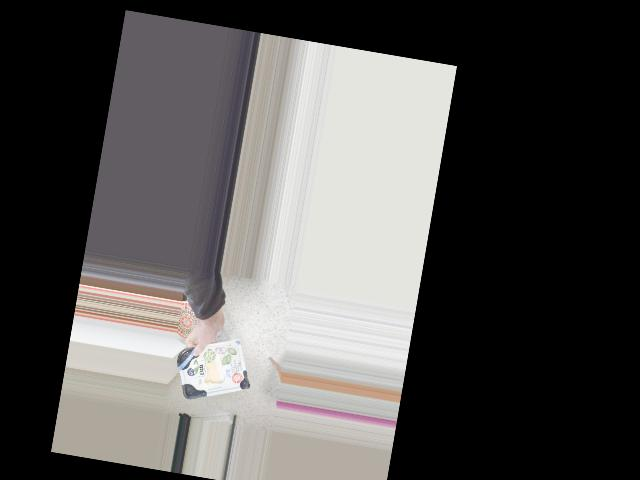cheese: (181, 338, 248, 395)
